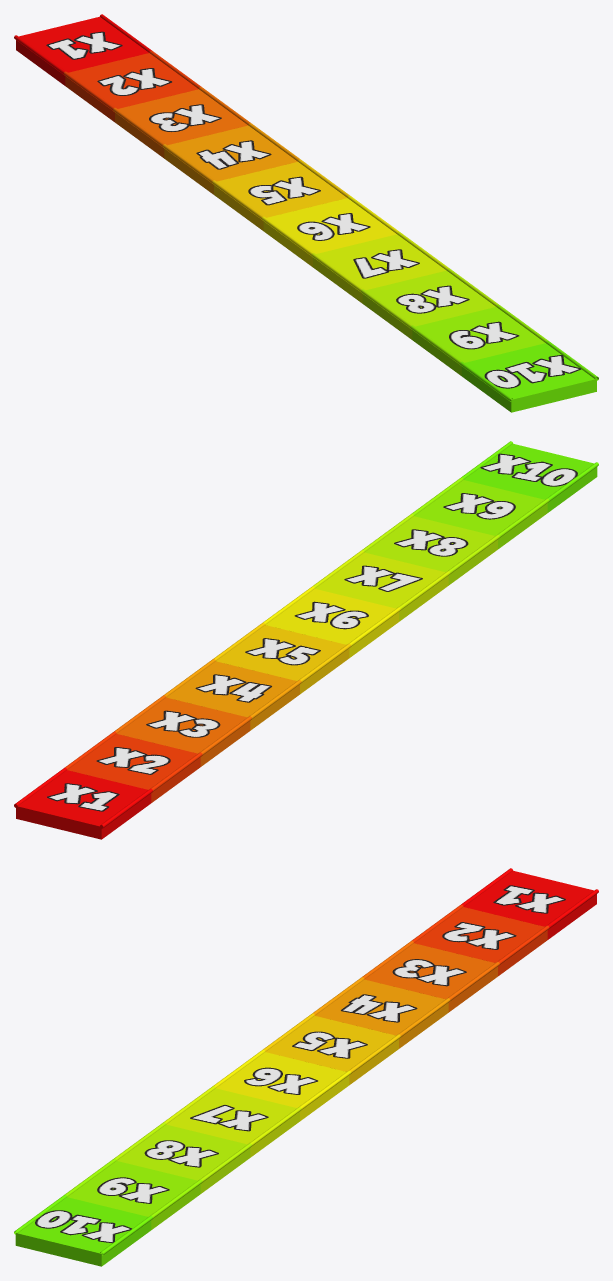
File: Bonus_Platform_V1_04.fbx
3 renders of one model, top to bottom at view 1: azimuth 30°, elevation 25°; view 2: azimuth 150°, elevation 25°; view 3: azimuth 330°, elevation 25°, orthographic.
Visible parts, largest first — view 1: X1_Platform_V1_00.014, X1_Platform_V1_00.011, X1_Platform_V1_00.003, X1_Platform_V1_00.007, X1_Platform_V1_00.005, X1_Platform_V1_00.009, X1_Platform_V1_00.010, X1_Platform_V1_00.013, X1_Platform_V1_00.008, X1_Platform_V1_00.012, X1_Platform_V1_00.001, X1_Platform_V1_00.002 (+10 smaller); view 2: X1_Platform_V1_00.003, X1_Platform_V1_00.011, X1_Platform_V1_00.007, X1_Platform_V1_00.005, X1_Platform_V1_00.009, X1_Platform_V1_00.010, X1_Platform_V1_00.013, X1_Platform_V1_00.008, X1_Platform_V1_00.012, X1_Platform_V1_00.014, X1_Platform_V1_00.001, X1_Platform_V1_00.002 (+10 smaller); view 3: X1_Platform_V1_00.014, X1_Platform_V1_00.011, X1_Platform_V1_00.003, X1_Platform_V1_00.005, X1_Platform_V1_00.007, X1_Platform_V1_00.009, X1_Platform_V1_00.010, X1_Platform_V1_00.013, X1_Platform_V1_00.012, X1_Platform_V1_00.008, X1_Platform_V1_00.002, X1_Platform_V1_00.001 (+10 smaller).
Part boxes in pixels (x1,y1,x2,y2): X1_Platform_V1_00.014: [461, 343, 596, 412]; X1_Platform_V1_00.011: [313, 234, 446, 303]; X1_Platform_V1_00.003: [16, 16, 148, 85]; X1_Platform_V1_00.007: [115, 89, 247, 158]; X1_Platform_V1_00.005: [65, 53, 198, 122]; X1_Platform_V1_00.009: [214, 162, 346, 230]; X1_Platform_V1_00.010: [263, 198, 396, 267]; X1_Platform_V1_00.013: [412, 307, 545, 375]; X1_Platform_V1_00.008: [164, 125, 297, 194]; X1_Platform_V1_00.012: [362, 270, 495, 339]; X1_Platform_V1_00.001: [14, 35, 512, 401]; X1_Platform_V1_00.002: [100, 14, 598, 380]; X1_Platform_V1_00.003: [16, 770, 151, 839]; X1_Platform_V1_00.011: [315, 552, 448, 621]; X1_Platform_V1_00.007: [117, 697, 250, 766]; X1_Platform_V1_00.005: [67, 734, 200, 802]; X1_Platform_V1_00.009: [216, 625, 349, 694]; X1_Platform_V1_00.010: [266, 589, 398, 657]; X1_Platform_V1_00.013: [414, 480, 547, 549]; X1_Platform_V1_00.008: [166, 661, 299, 730]; X1_Platform_V1_00.012: [365, 516, 497, 585]; X1_Platform_V1_00.014: [464, 443, 597, 512]; X1_Platform_V1_00.001: [100, 462, 598, 828]; X1_Platform_V1_00.002: [14, 441, 512, 807]; X1_Platform_V1_00.014: [15, 1197, 151, 1266]; X1_Platform_V1_00.011: [166, 1088, 299, 1157]; X1_Platform_V1_00.003: [464, 870, 596, 939]; X1_Platform_V1_00.005: [414, 907, 547, 976]; X1_Platform_V1_00.007: [365, 943, 497, 1012]; X1_Platform_V1_00.009: [266, 1016, 398, 1084]; X1_Platform_V1_00.010: [216, 1052, 349, 1121]; X1_Platform_V1_00.013: [67, 1161, 200, 1229]; X1_Platform_V1_00.012: [117, 1124, 250, 1193]; X1_Platform_V1_00.008: [315, 979, 448, 1048]; X1_Platform_V1_00.002: [100, 889, 598, 1255]; X1_Platform_V1_00.001: [14, 868, 512, 1234].
Bounding box in the file's own units: 7.3 × 1.15 × 70.
11 materials, 11 textured.
